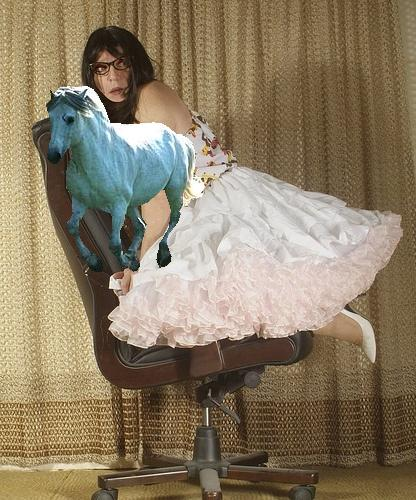tampered: (47, 87, 205, 272)
